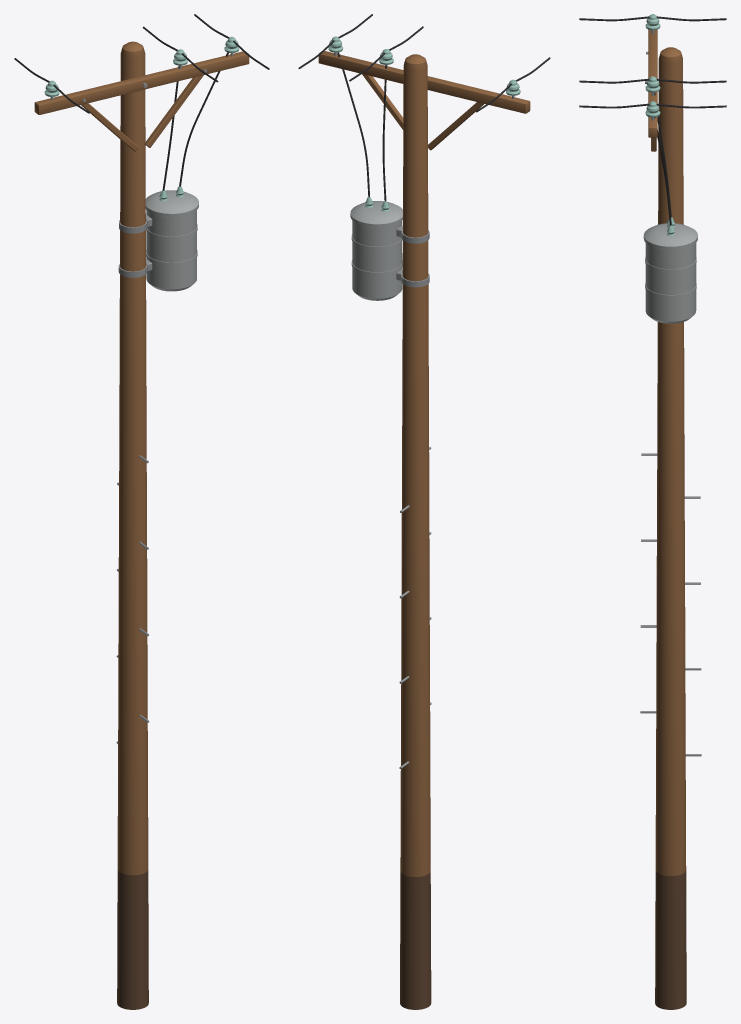
File: UtilityPole.fbx
3 renders of one model, left to right at view 1: azimuth 30°, elevation 25°; view 2: azimuth 150°, elevation 25°; view 3: azimuth 270°, elevation 25°, orthographic.
Visible parts, largest first — view 1: UtilityPole_Mesh; view 2: UtilityPole_Mesh; view 3: UtilityPole_Mesh.
Part boxes in pixels (x1,y1,x2,y2): UtilityPole_Mesh: (14, 14, 269, 1009); UtilityPole_Mesh: (298, 14, 550, 1009); UtilityPole_Mesh: (579, 14, 726, 1009).
Bounding box in the file's own units: 2.3 × 10 × 1.4.
